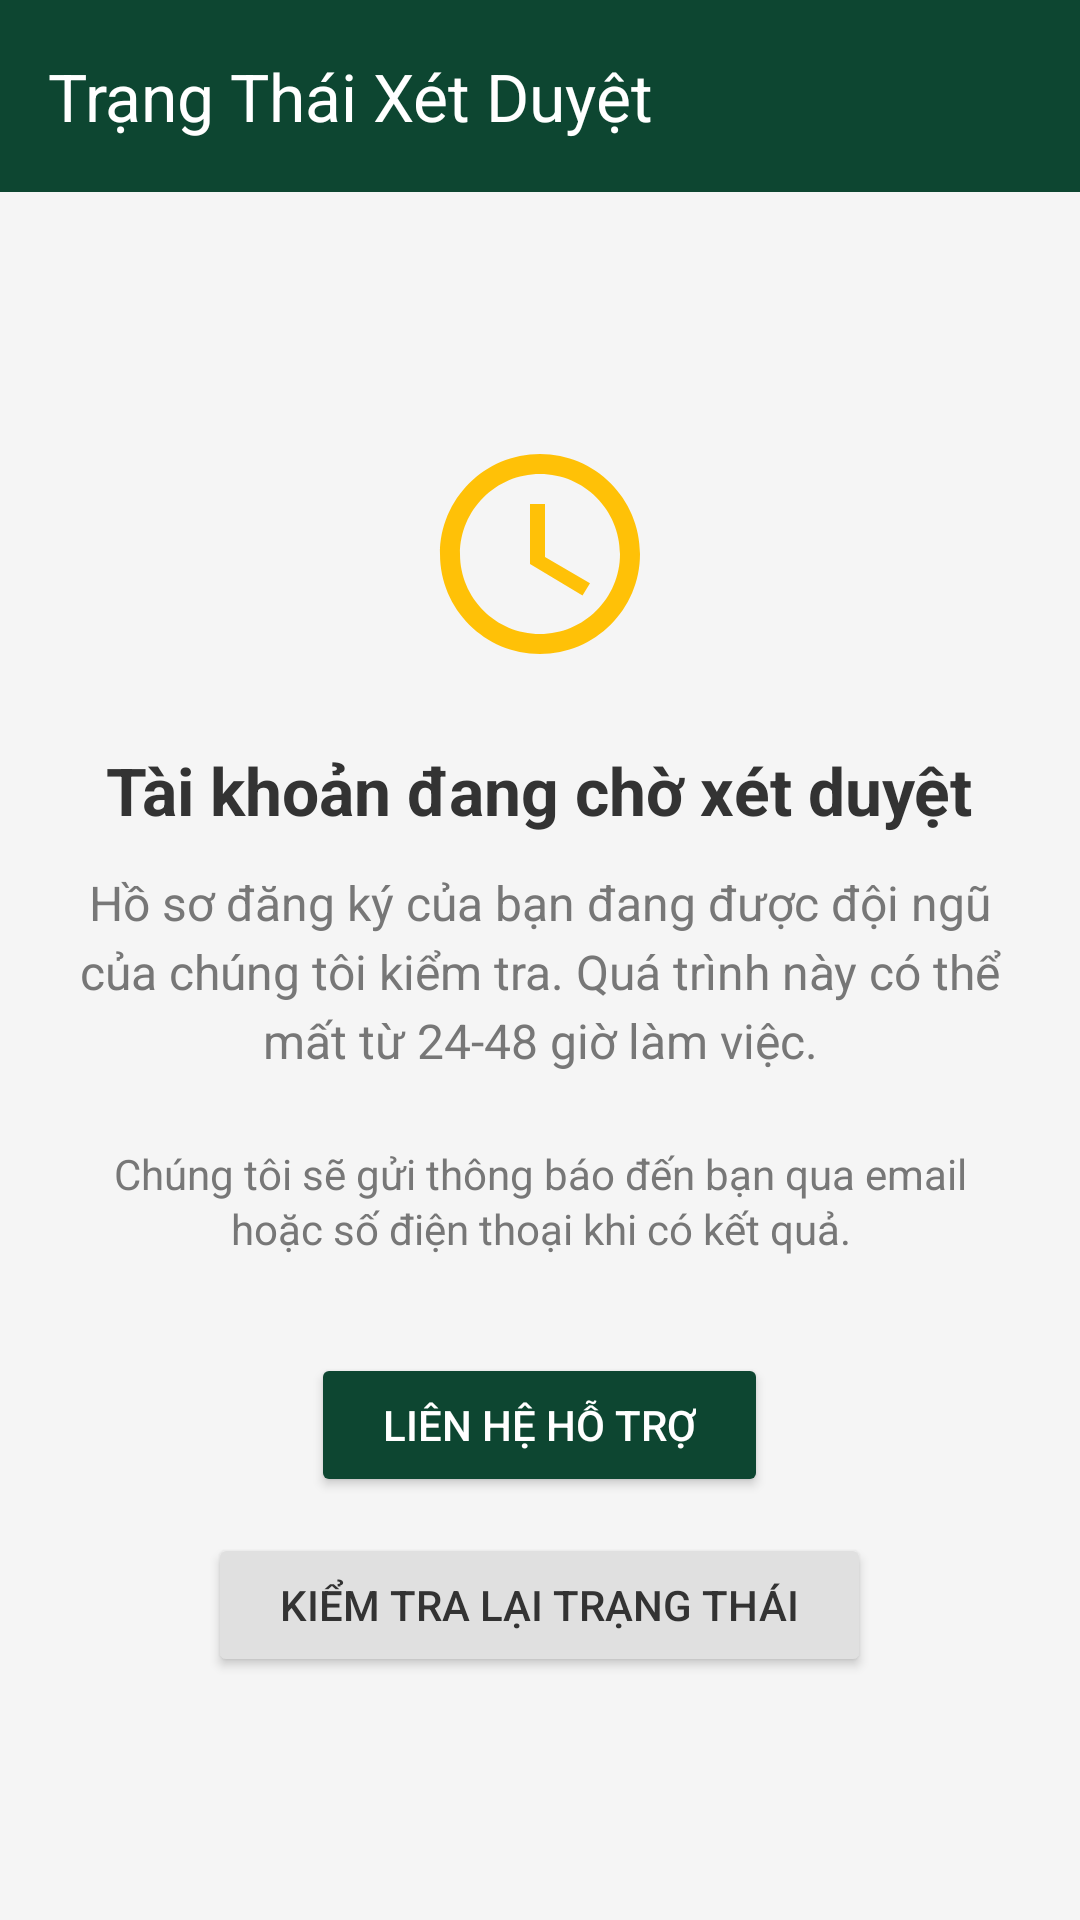

Named icons in this screenshot (1080 × 1920) and their centers, (x,y):
Pending Approval Icon: (539,554)
